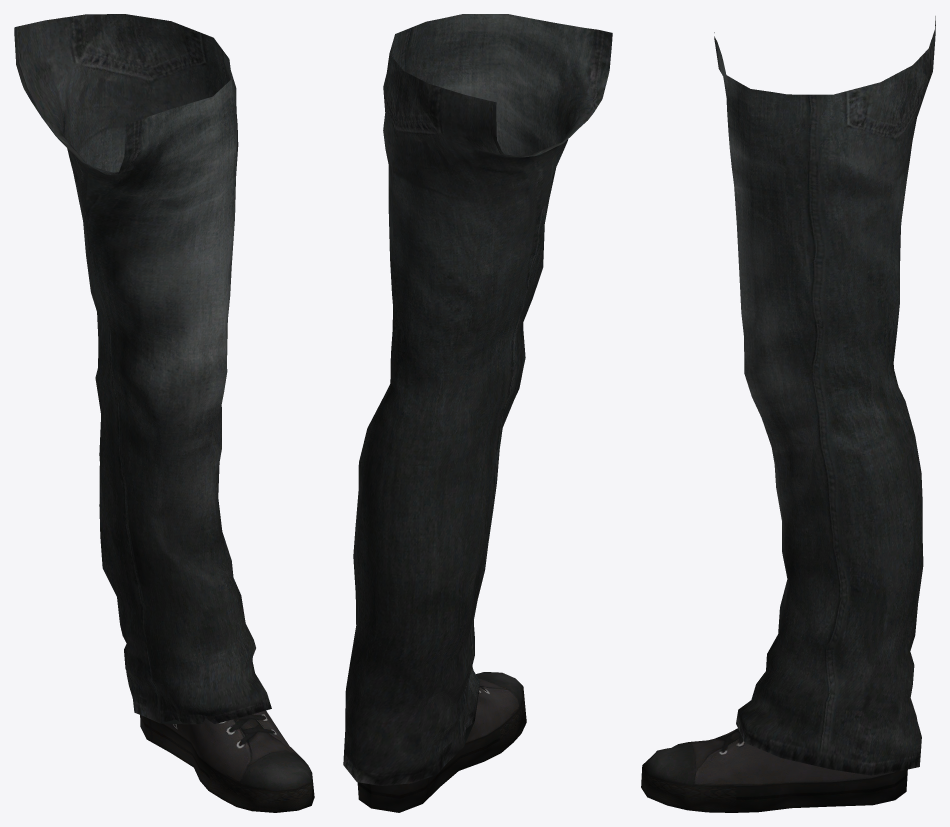
File: izquierdaP.obj
3 views of the same model, side by side, from view 1: azimuth 30°, elevation 25°; view 2: azimuth 150°, elevation 25°; view 3: azimuth 270°, elevation 25° (orthographic). The views are drawn at different scales.
Visible parts, largest first — view 1: izquierdaP_Harry_clothes2.002; view 2: izquierdaP_Harry_clothes2.002; view 3: izquierdaP_Harry_clothes2.002.
Boxes of the visible parts, bbox=[...] form: izquierdaP_Harry_clothes2.002: bbox=[14, 14, 314, 812]; izquierdaP_Harry_clothes2.002: bbox=[343, 14, 612, 812]; izquierdaP_Harry_clothes2.002: bbox=[641, 16, 935, 812].
Size of the model in its own units: 0.4686 by 1.8 by 0.676.
